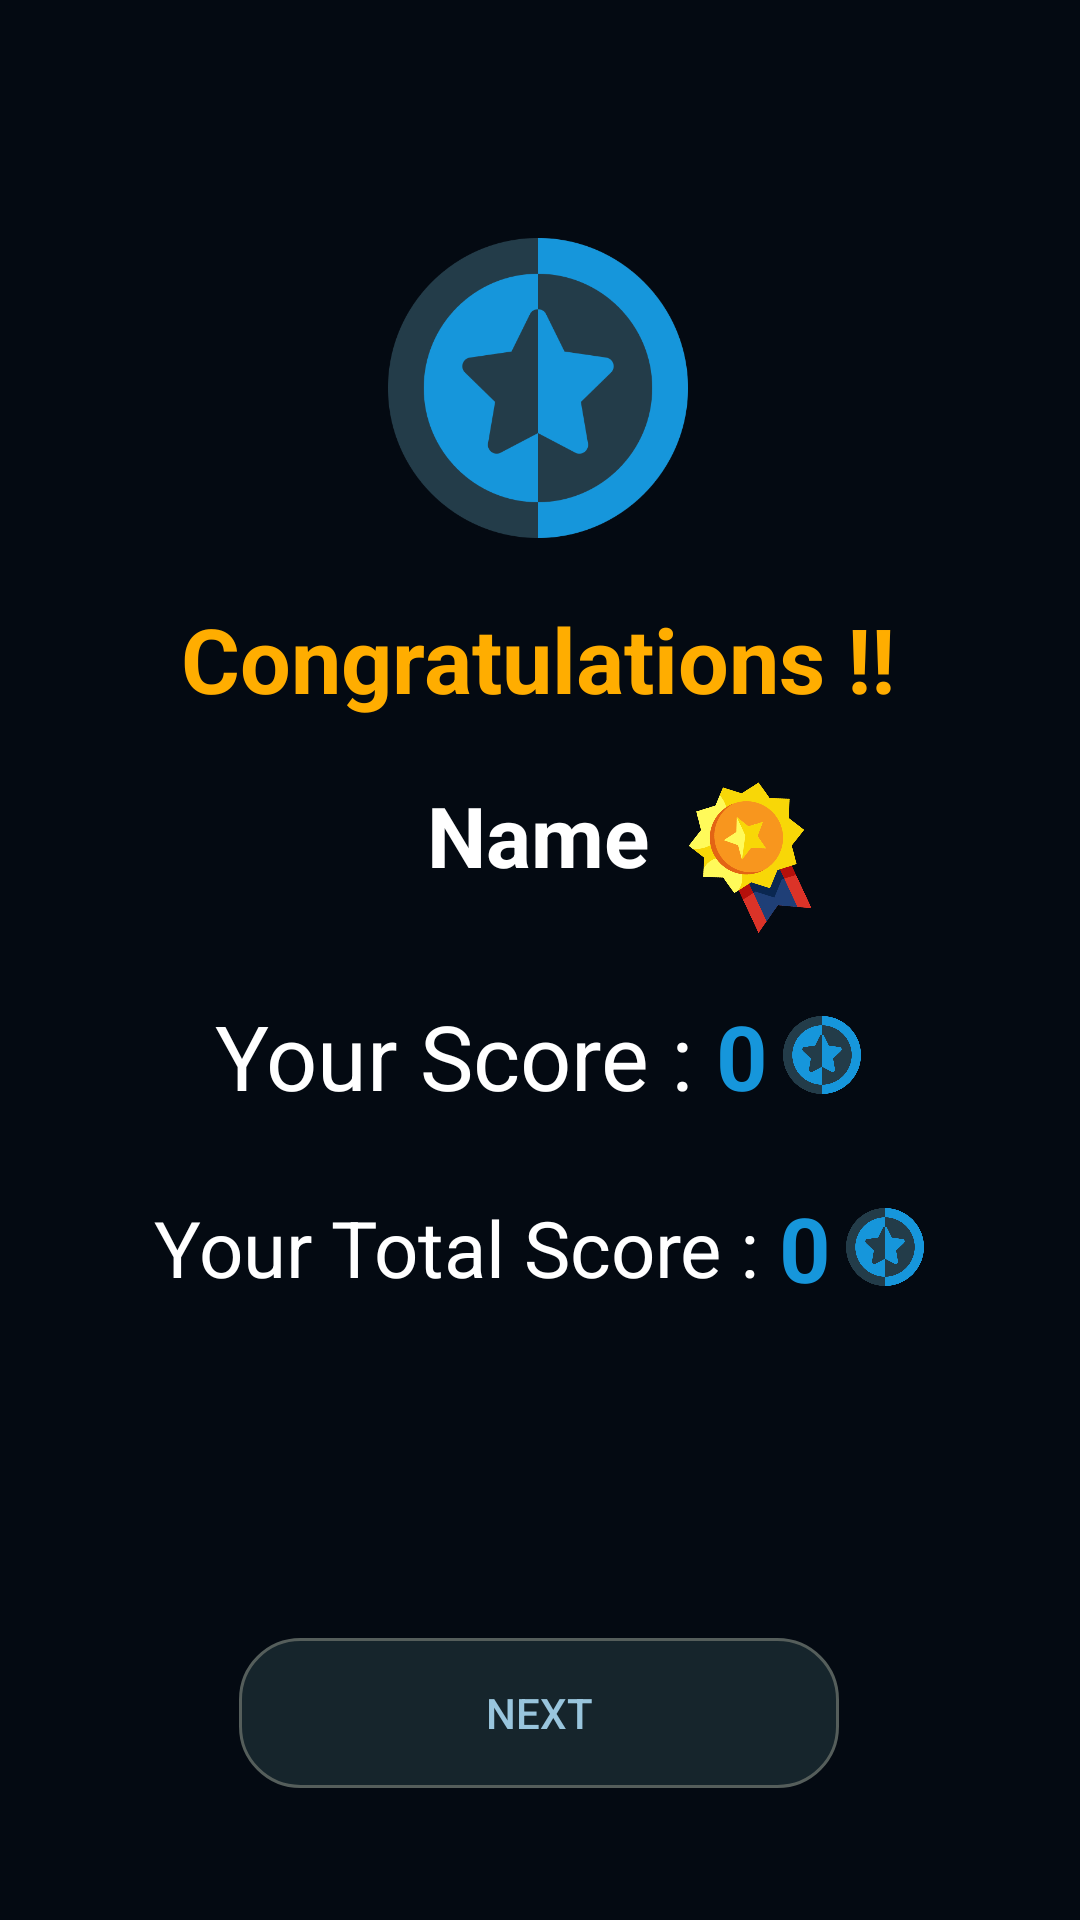

Named icons in this screenshot (1080w x 1920h) and their centers, (x,y):
coin: (538,388), (822,1055), (885,1247)
